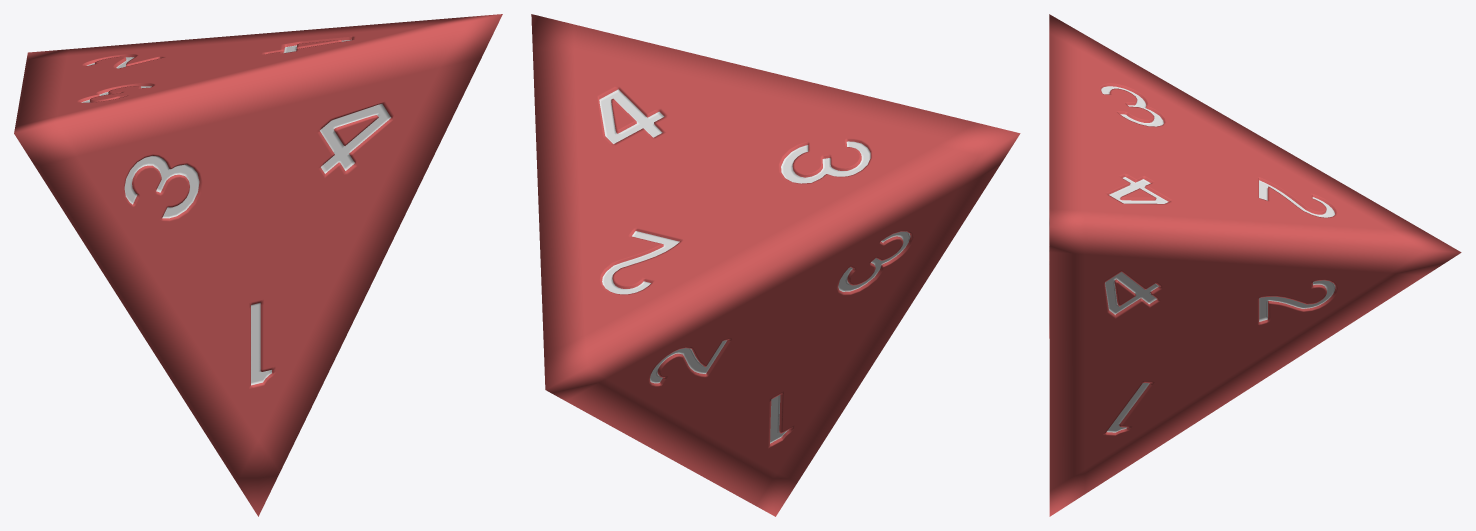
The model's file is die_4.dae.
3 renders of one model, left to right at view 1: azimuth 30°, elevation 25°; view 2: azimuth 150°, elevation 25°; view 3: azimuth 270°, elevation 25°, orthographic. The views are drawn at different scales.
Parts seen in each view (by area): view 1: Die4Side; view 2: Die4Side; view 3: Die4Side.
Boxes of the visible parts, x1,y1,x2,y2 form: Die4Side: (14,14,502,516); Die4Side: (531,14,1020,516); Die4Side: (1049,14,1461,516).
Bounding box in the file's own units: 2.04 × 1.77 × 1.67.
